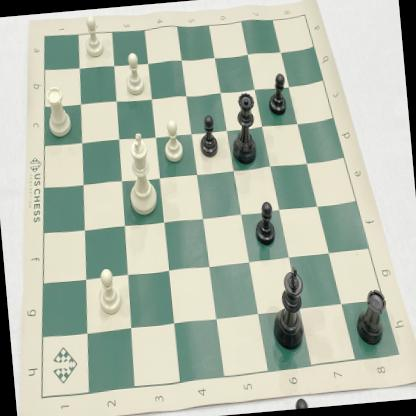king: (266, 262, 310, 356), (121, 128, 162, 218)
pawn: (94, 264, 124, 320), (250, 198, 280, 248), (78, 13, 108, 61), (121, 50, 148, 100), (197, 111, 223, 161), (160, 116, 186, 166), (264, 70, 290, 118)
queen: (225, 90, 263, 169)
rook: (352, 286, 391, 350), (42, 83, 76, 139)
